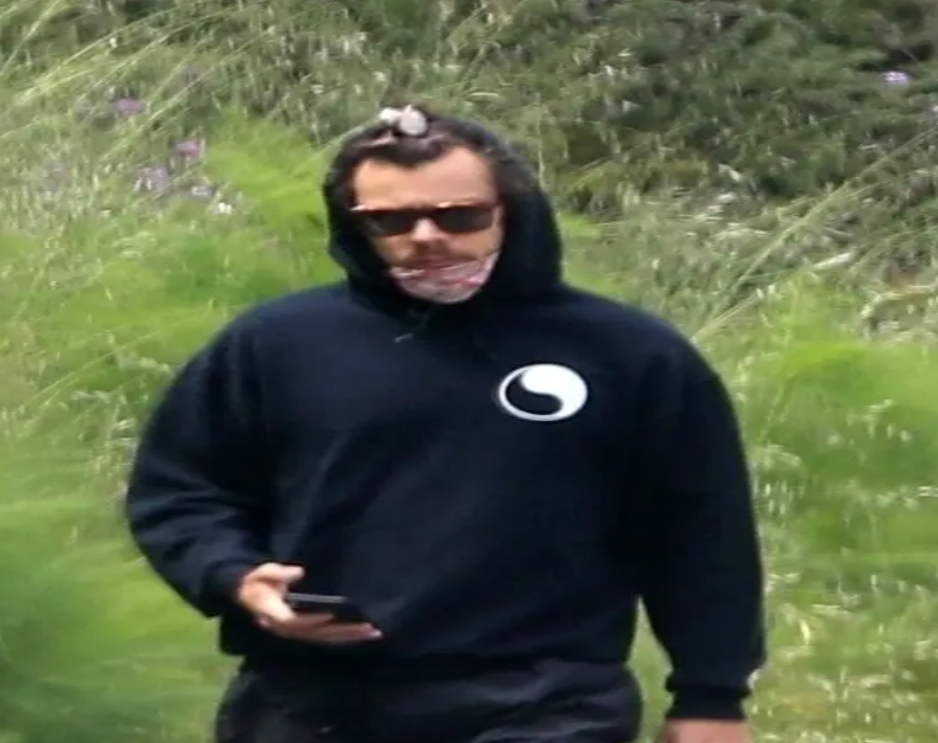mask_weared_incorrect: (324, 126, 535, 312)
